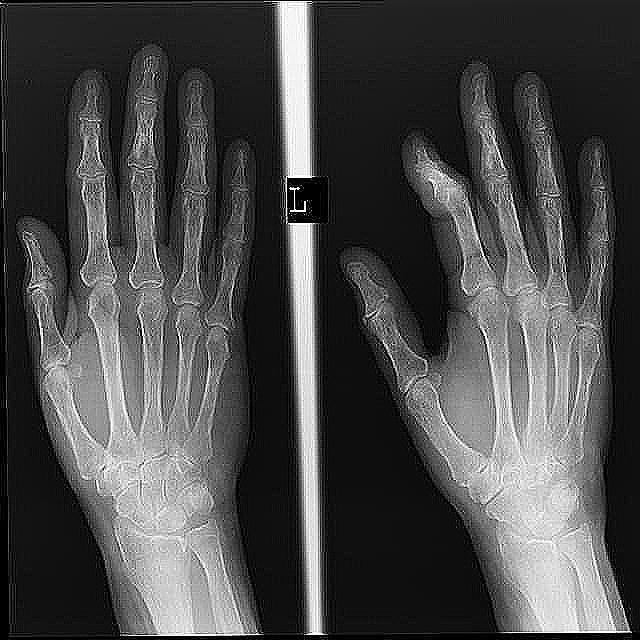bone: (398, 130, 459, 216)
